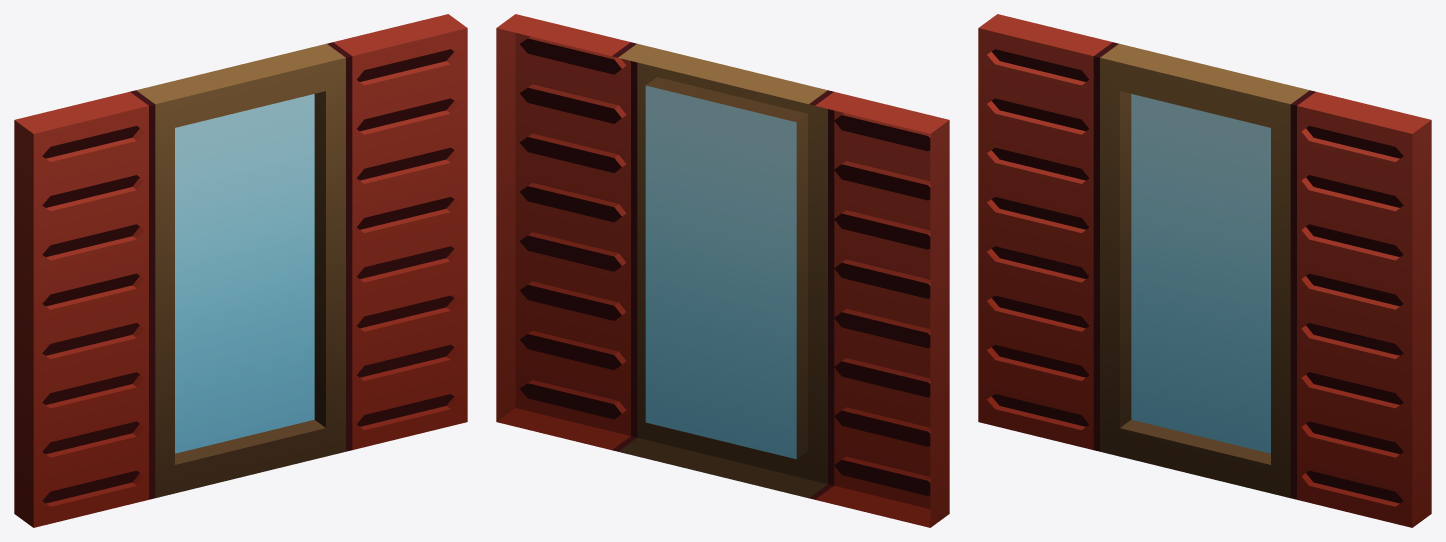
The model's file is Window_07A.fbx.
3 renders of one model, left to right at view 1: azimuth 30°, elevation 25°; view 2: azimuth 150°, elevation 25°; view 3: azimuth 330°, elevation 25°, orthographic.
Visible parts, largest first — view 1: Window_07A; view 2: Window_07A; view 3: Window_07A.
Part boxes in pixels (x1,y1,x2,y2): Window_07A: [14, 14, 467, 527]; Window_07A: [496, 14, 949, 527]; Window_07A: [978, 14, 1431, 527].
Bounding box in the file's own units: 286 × 248 × 21.94.
Materials: 2 (2 with a texture image).
